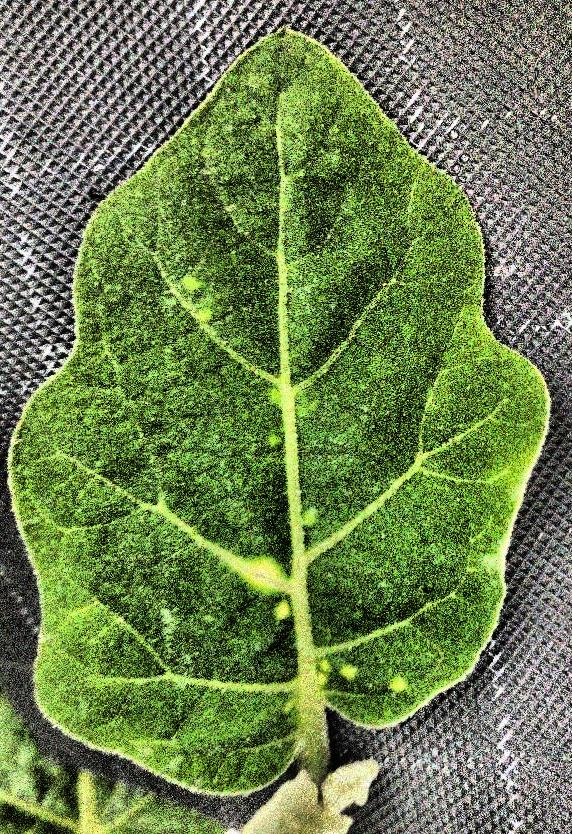HEALTHY: (1, 0, 572, 834)
